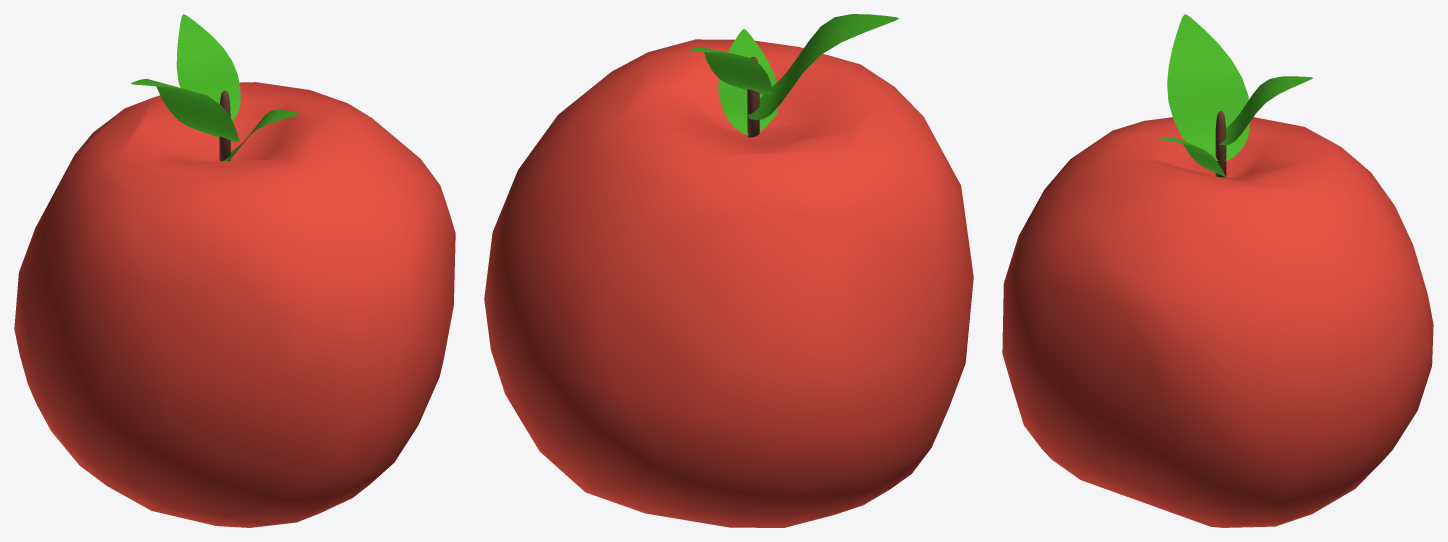
File: apple_RED.fbx
The picture shows the model from 3 angles, left to right: view 1: azimuth 30°, elevation 25°; view 2: azimuth 150°, elevation 25°; view 3: azimuth 270°, elevation 25°; orthographic projection. The views are drawn at different scales.
Parts seen in each view (by area): view 1: Sphere; view 2: Sphere; view 3: Sphere.
Boxes of the visible parts, x1,y1,x2,y2 form: Sphere: (14,14,455,527); Sphere: (484,14,973,527); Sphere: (1002,14,1433,527).
Size of the model in its own units: 5.02 by 5.68 by 5.21.
